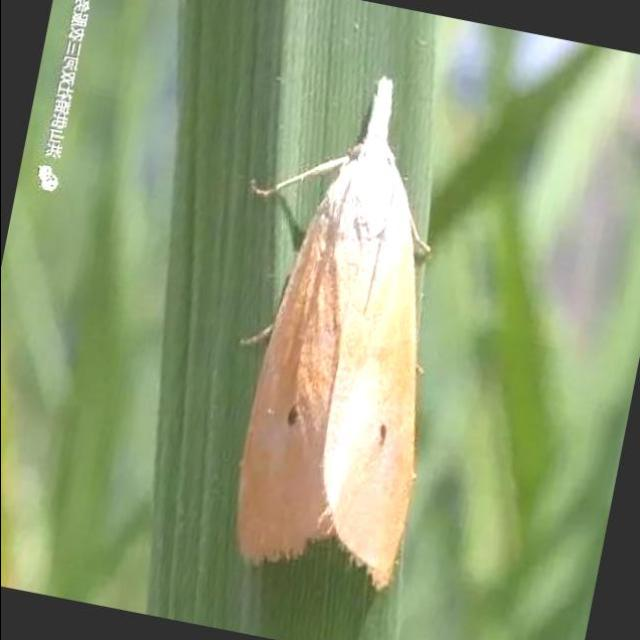stem borer: (237, 77, 423, 590)
